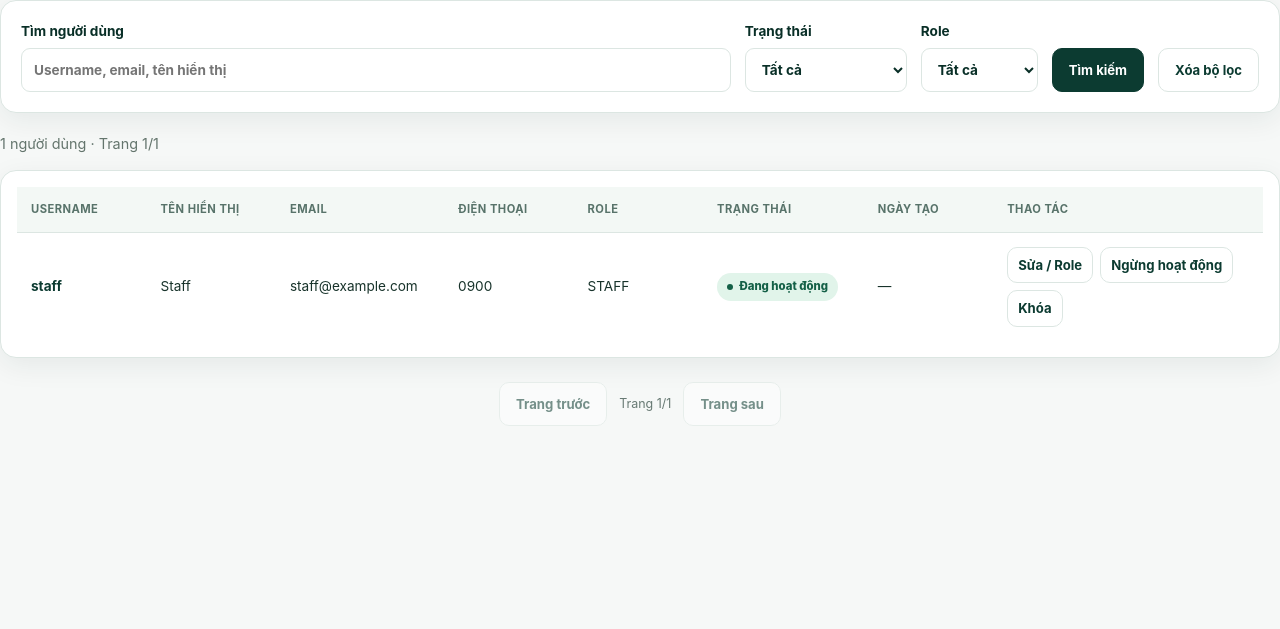
Scenario: displays duplicate email errors without reporting success
Click the button "Sửa / Role": [1050, 265] box [1007,247,1093,283]
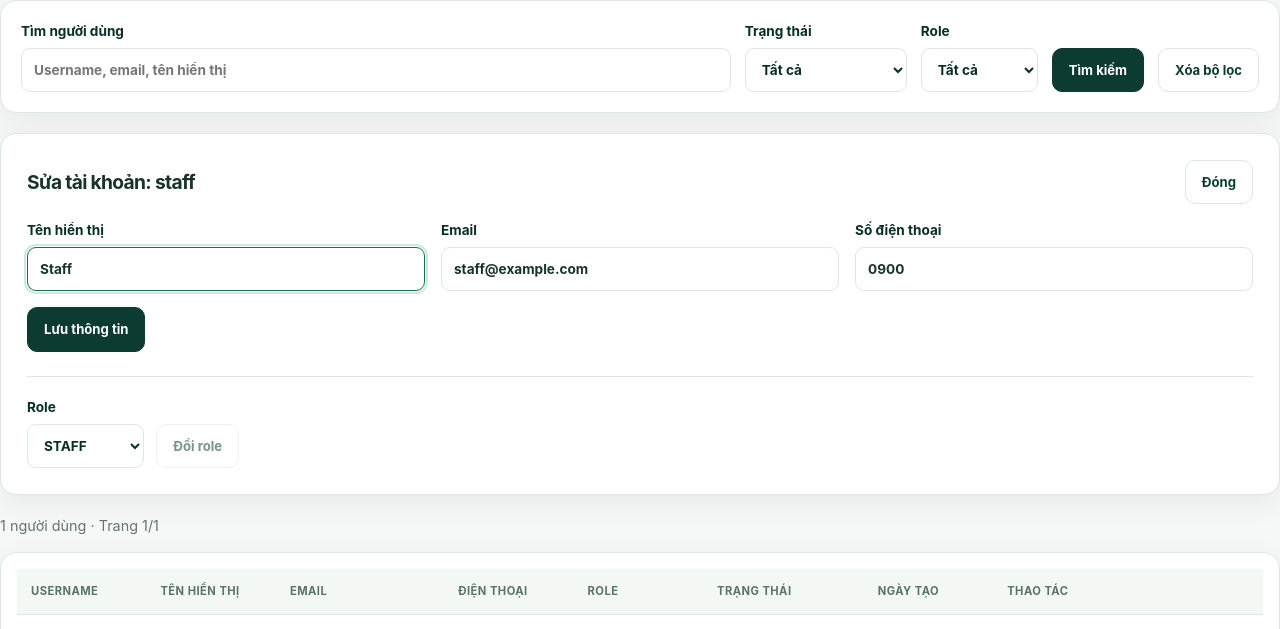
Replace the text in the field labelled "Email" with "other@example.com": [640, 270] box [441,248,839,292]
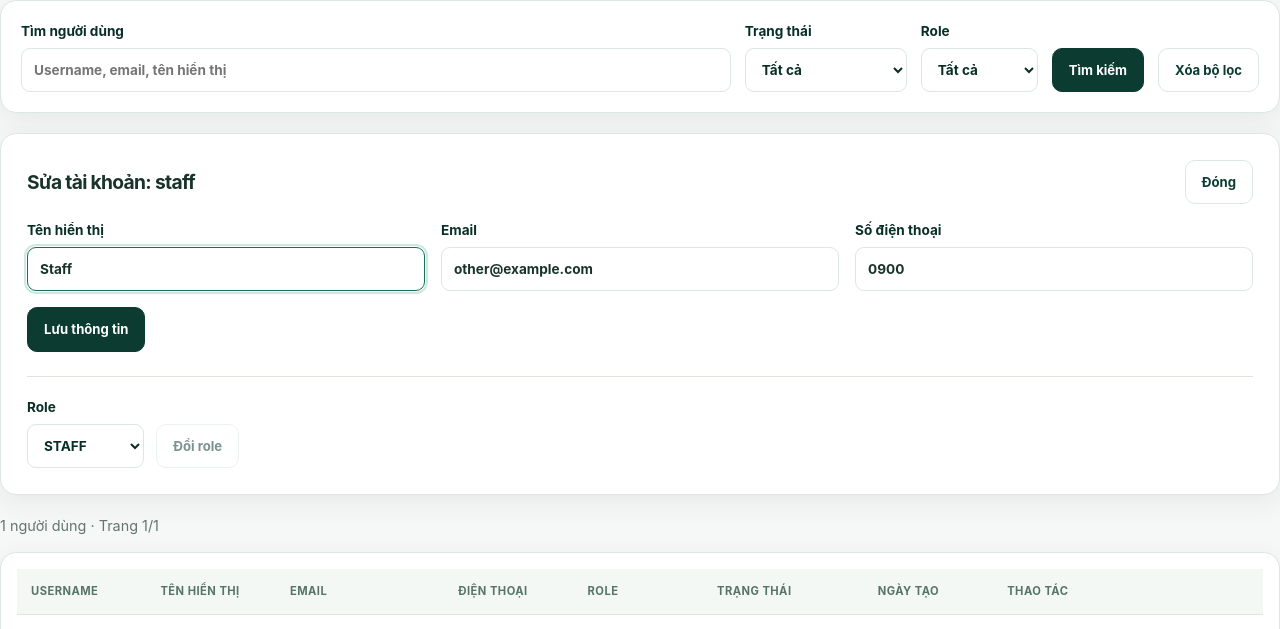
Click the button "Lưu thông tin": [86, 330] box [27,308,145,352]
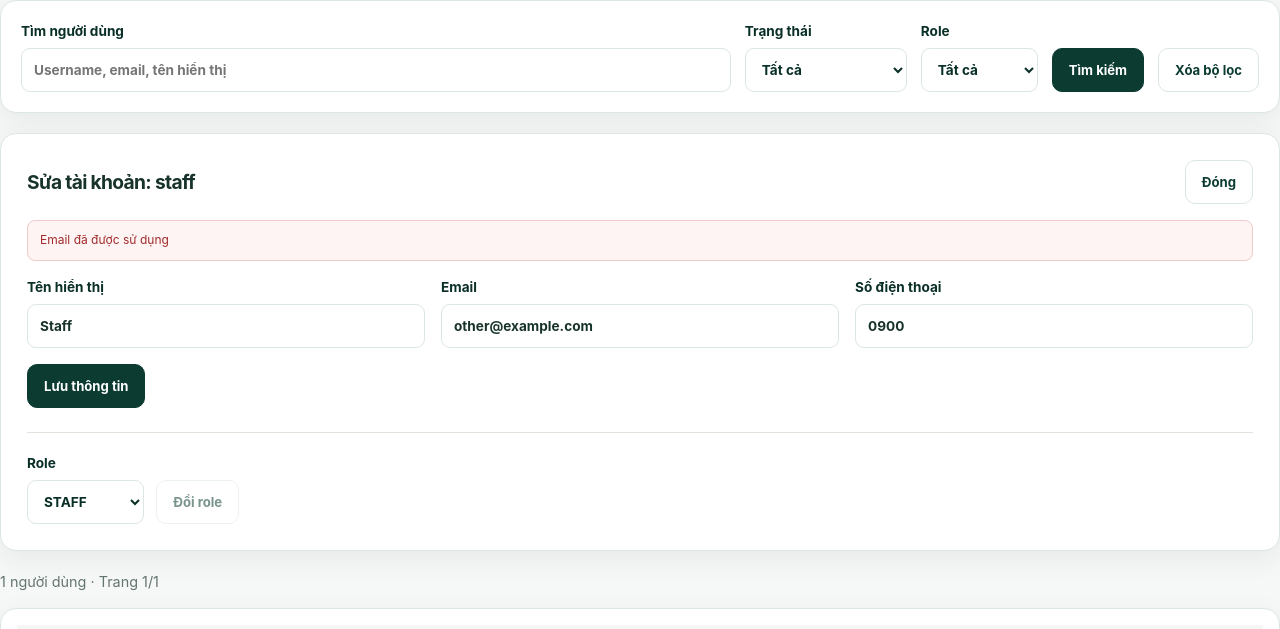
Result: the message "Email đã được sử dụng" is shown at [27,220,1253,261]
